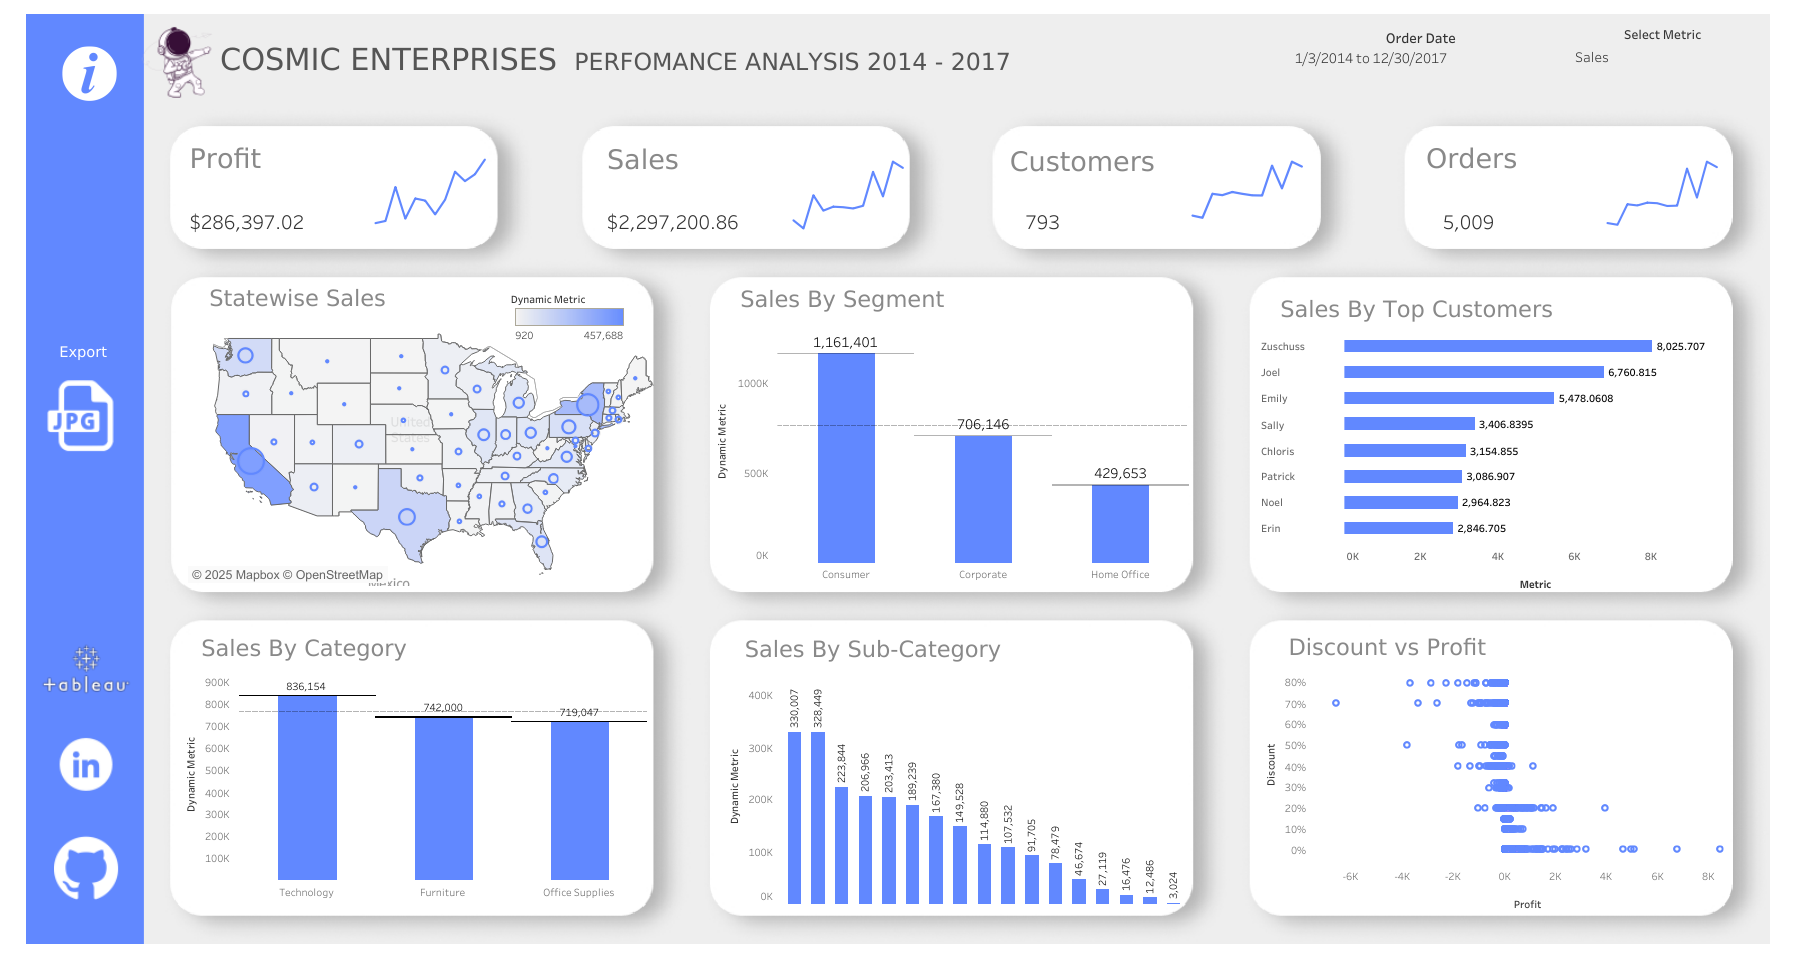

This screenshot's page, from the dashboard's own definition file:
{"tool":"tableau","page":{"name":"DASHBOARD","canvas":[1596,851],"ordinal":0},"visuals":[{"type":"image","param":"C:/Users/deshm/Downloads/Dashboard Template.jpg","box":[8,8,1580,835]},{"type":"image","param":"C:/Users/deshm/Downloads/—Pngtree—paper plane cute astronaut_6203154.png","box":[120,13,85,85]},{"type":"text","box":[193,15,883,74]},{"type":"worksheet","title":"INFO","mark":"Shape","box":[25,16,109,99]},{"type":"parameter","param":"[Parameters].[Parameter 1]","box":[1398,22,160,97]},{"type":"filter","title":"Line Profit","param":"[federated.0rtb97n1g32y7x15uv83y17kekrx].[none:order_date:qk]","box":[1148,23,230,65]},{"type":"text","box":[166,119,100,42]},{"type":"text","box":[1265,119,127,42]},{"type":"text","box":[537,120,100,42]},{"type":"text","box":[895,122,199,42]},{"type":"worksheet","title":"Line Profit","mark":"Automatic","rows":["profit"],"cols":["order_date"],"box":[329,137,106,76]},{"type":"worksheet","title":"Line sales","mark":"Automatic","rows":["sales"],"cols":["order_date"],"box":[700,139,106,76]},{"type":"worksheet","title":"Line Customers","mark":"Automatic","rows":["Calculation_1575978460344180737"],"cols":["order_date"],"box":[1055,139,106,76]},{"type":"worksheet","title":"Line Orders","mark":"Automatic","rows":["Calculation_1575978460348628997"],"cols":["order_date"],"box":[1424,139,106,76]},{"type":"worksheet","title":"METRIC BY STATE","mark":"Automatic","box":[163,247,444,274]},{"type":"worksheet","title":"METRIC BY SEGMENT","mark":"Automatic","rows":["Calculation_1575978460370001926"],"cols":["segment"],"box":[635,248,422,273]},{"type":"legend","title":"METRIC BY STATE","param":"[federated.0rtb97n1g32y7x15uv83y17kekrx].[usr:Calculation_1575978460370001926:qk","box":[454,255,105,55]},{"type":"worksheet","title":"Top customers","mark":"Automatic","rows":["costumer_name"],"cols":["Calculation_1575978460370001926"],"box":[1115,257,420,269]},{"type":"text","box":[24,297,100,30]},{"type":"dashboard-object","box":[22,338,99,63]},{"type":"image","param":"C:/# DHAIRYASEN/TABLEAU PROJECTS/ARTIFICIAL INTELLIGENCE ROADMAP/ICONS/tableau w","box":[37,553,79,83]},{"type":"worksheet","title":"Scactter","mark":"Automatic","rows":["discount"],"cols":["profit"],"box":[1116,557,432,253]},{"type":"worksheet","title":"METRIC BY CATEGORY","mark":"Automatic","rows":["Calculation_1575978460370001926"],"cols":["category"],"box":[156,558,419,251]},{"type":"worksheet","title":"METRIC BY SUB CAT","mark":"Automatic","rows":["Calculation_1575978460370001926"],"cols":["sub-category"],"box":[639,559,415,244]},{"type":"image","param":"C:/# DHAIRYASEN/TABLEAU PROJECTS/ARTIFICIAL INTELLIGENCE ROADMAP/ICONS/linkdin w","box":[41,647,71,65]},{"type":"image","param":"C:/Users/deshm/Downloads/pngegg.png","box":[48,743,57,57]}]}

Visuals, with their boxes in screenshot pixels (x1, y1, x2, y2), scaled from the page's 1596x851 canvas onto the 1794x956 screenshot:
image: 9 9 1785 947
image: 135 15 230 110
text: 217 17 1209 100
"INFO" worksheet (Shape marks): 28 18 151 129
parameter: 1571 25 1751 134
"Line Profit" filter: 1290 26 1549 99
text: 187 134 299 181
text: 1422 134 1565 181
text: 604 135 716 182
text: 1006 137 1230 184
"Line Profit" worksheet: 370 154 489 239
"Line sales" worksheet: 787 156 906 242
"Line Customers" worksheet: 1186 156 1305 242
"Line Orders" worksheet: 1601 156 1720 242
"METRIC BY STATE" worksheet: 183 277 682 585
"METRIC BY SEGMENT" worksheet: 714 279 1188 585
"METRIC BY STATE" legend: 510 286 628 348
"Top customers" worksheet: 1253 289 1725 591
text: 27 334 139 367
dashboard-object: 25 380 136 450
image: 42 621 130 714
"Scactter" worksheet: 1254 626 1740 910
"METRIC BY CATEGORY" worksheet: 175 627 646 909
"METRIC BY SUB CAT" worksheet: 718 628 1185 902
image: 46 727 126 800
image: 54 835 118 899
